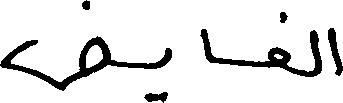X: (0, 0, 108, 95), (270, 7, 288, 75), (331, 23, 342, 80), (160, 43, 170, 102), (312, 25, 320, 81), (203, 24, 210, 67)
